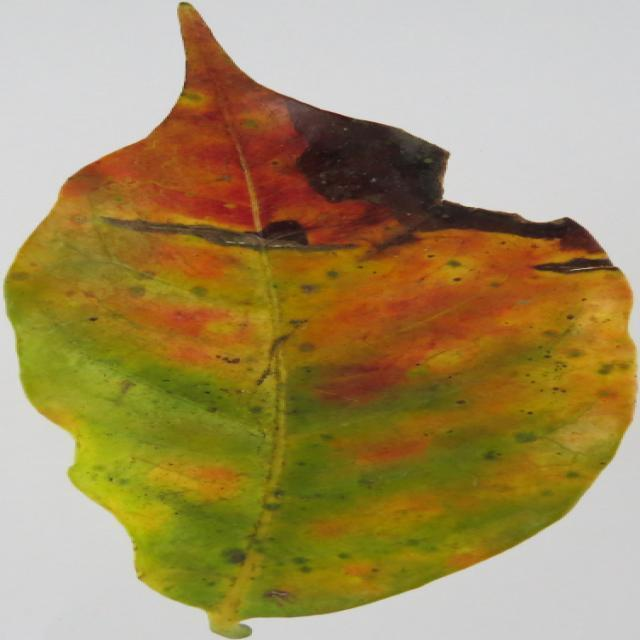DeficienciaNutricional-Fosforo: (7, 4, 635, 638)
